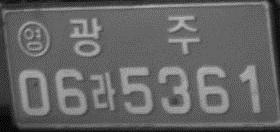0: (17, 69, 50, 117)
1: (235, 65, 266, 112)
3: (157, 65, 192, 115)
5: (118, 66, 154, 114)
6: (195, 65, 230, 115), (54, 68, 88, 115)
광주_D: (68, 16, 201, 58)
라: (89, 71, 116, 111)
영: (16, 20, 50, 57)
